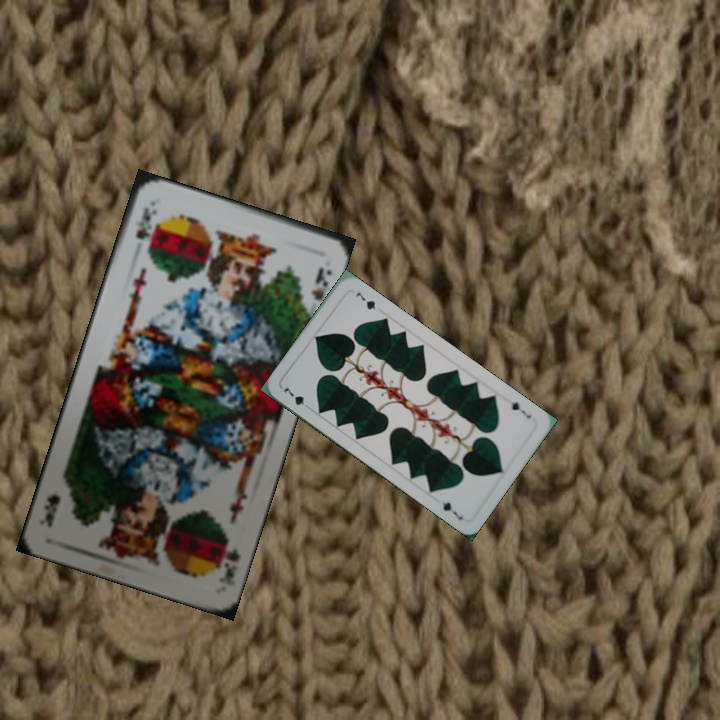G7: (280, 383, 314, 413), (507, 397, 534, 421)
SK: (213, 533, 242, 582), (131, 203, 159, 243)
